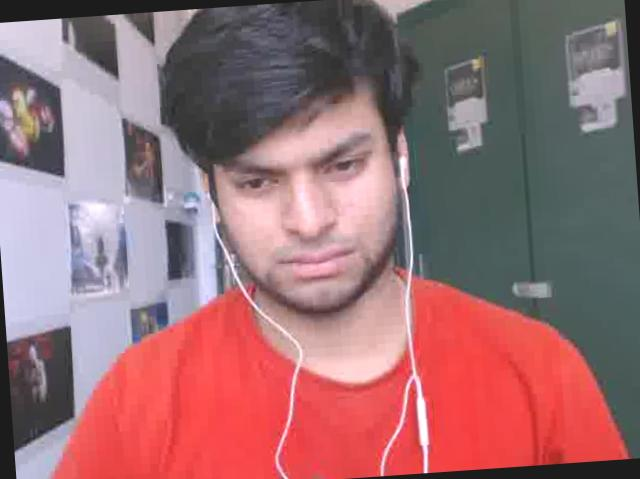bosan: (203, 83, 402, 320)
